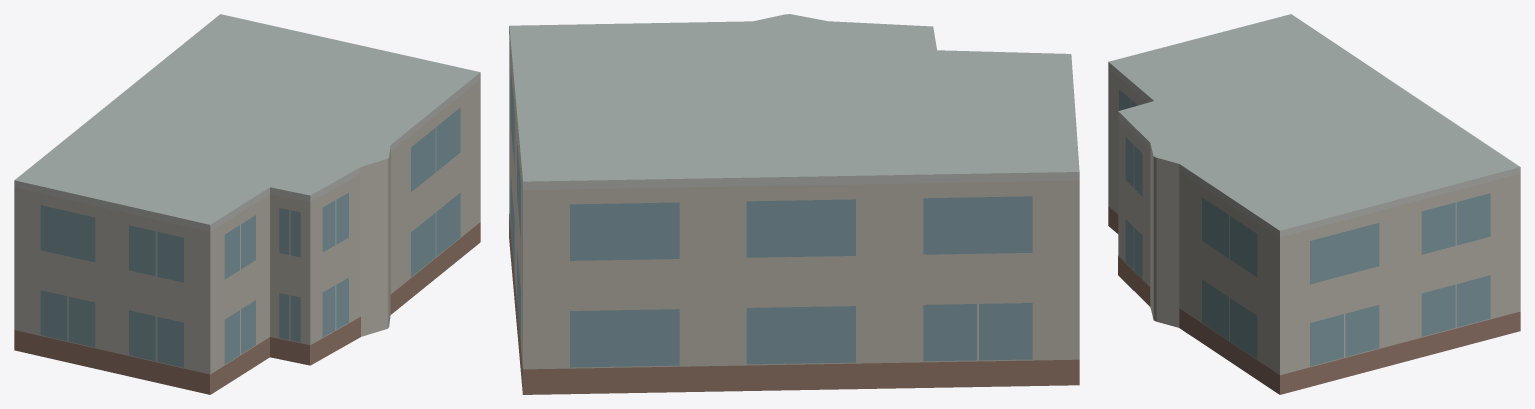
The model's file is survey-upis-32623887.glb.
The picture shows the model from 3 angles, left to right: view 1: azimuth 30°, elevation 25°; view 2: azimuth 150°, elevation 25°; view 3: azimuth 270°, elevation 25°; orthographic projection. The views are drawn at different scales.
Visible parts, largest first — view 1: survey-upis-32623887.tmp; view 2: survey-upis-32623887.tmp; view 3: survey-upis-32623887.tmp.
Part boxes in pixels (x1=…): survey-upis-32623887.tmp: x1=14, y1=14, x2=480, y2=394; survey-upis-32623887.tmp: x1=509, y1=14, x2=1079, y2=394; survey-upis-32623887.tmp: x1=1108, y1=14, x2=1520, y2=394.
Bounding box in the file's own units: 17.3 × 6.1 × 13.9.
